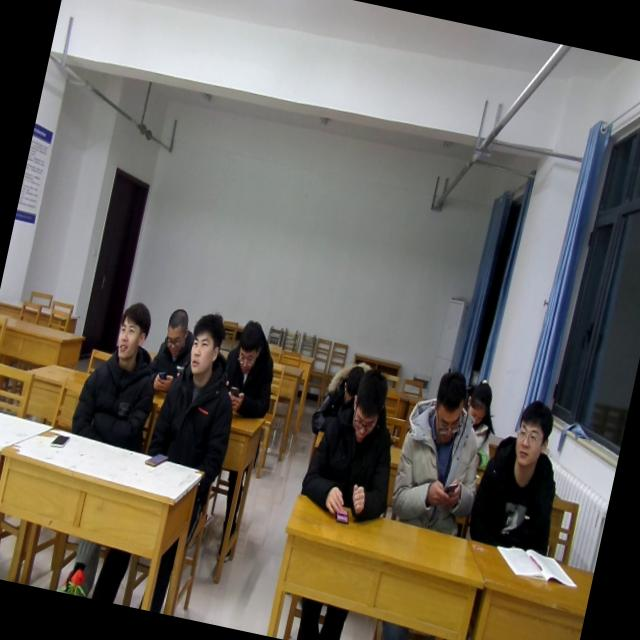bow: (213, 314, 287, 426), (306, 352, 376, 444)
down: (420, 362, 474, 451), (341, 361, 394, 447), (230, 312, 272, 378), (460, 366, 500, 428), (158, 299, 196, 361), (336, 356, 366, 404)
lookup: (505, 394, 559, 472), (180, 301, 230, 383), (107, 294, 156, 368)
sit: (386, 360, 503, 538), (294, 362, 412, 528), (464, 388, 578, 559), (143, 304, 255, 473), (68, 292, 175, 449), (444, 372, 508, 472), (144, 304, 202, 398)
